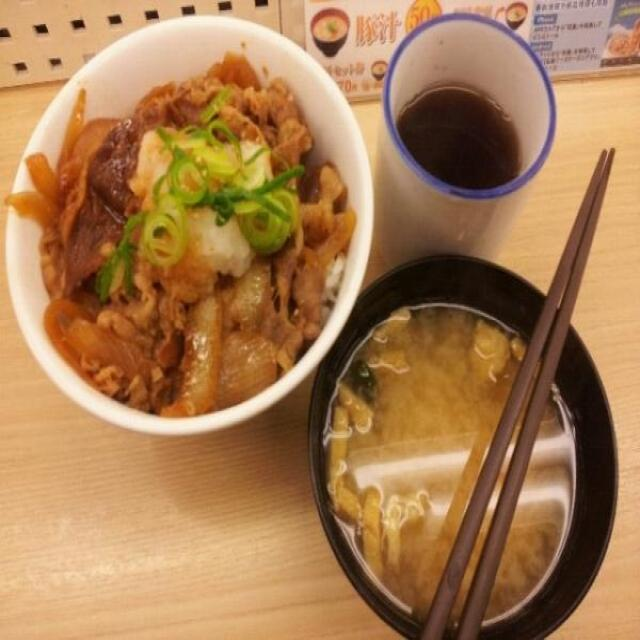汤锅炖物: (295, 256, 626, 640)
